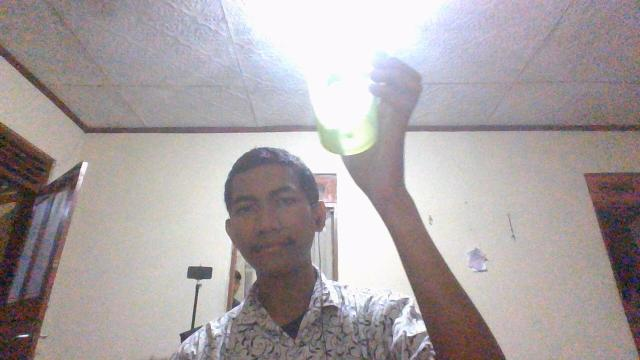botol-hijau: (300, 24, 394, 166)
